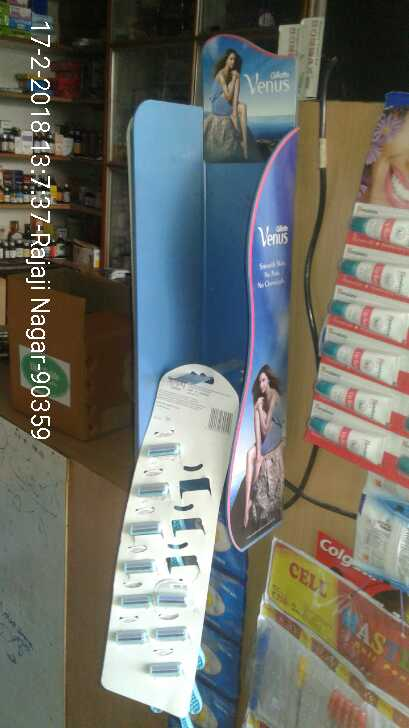reject: (153, 156, 292, 406)
